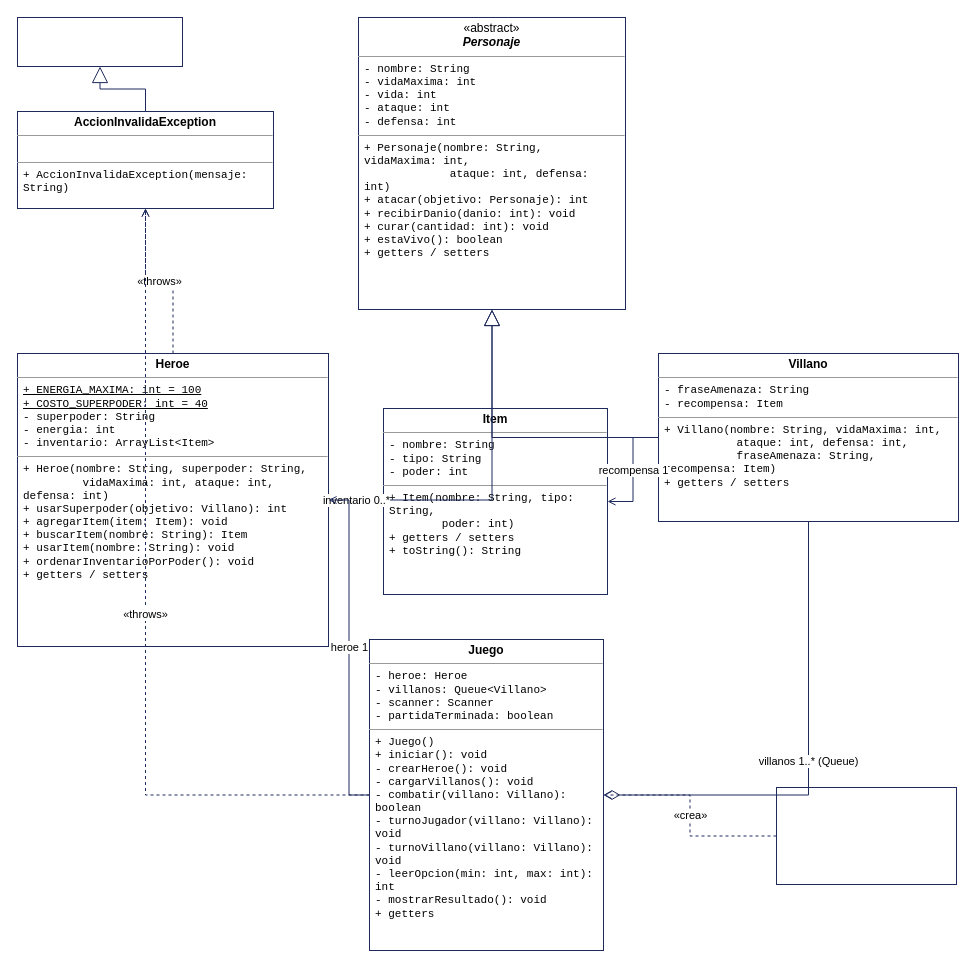
The diagram is 976 pixels wide and 968 high, and some of its shapes have lost their labels. The shapes that lost their labels are listed below. From the top down, each one's centre as x and y in pixels, then its label:
(99,41): «java.lang» Exception
(866,835): Main + main(args: String[]): void
